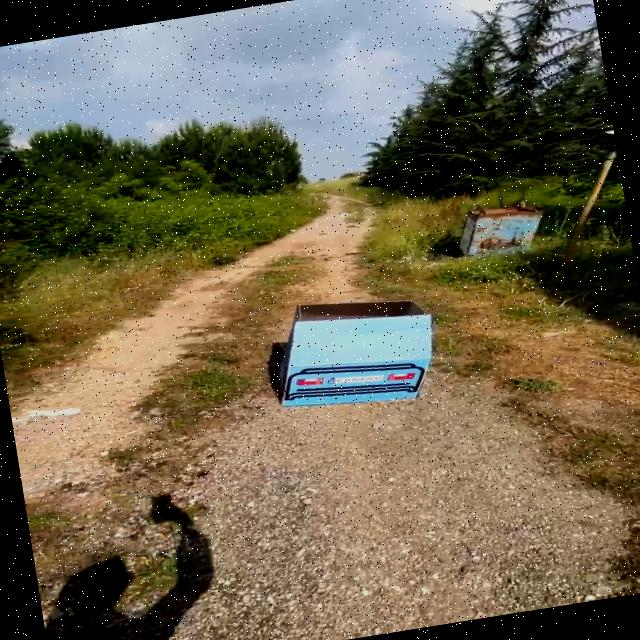blue_car: (240, 267, 457, 433)
